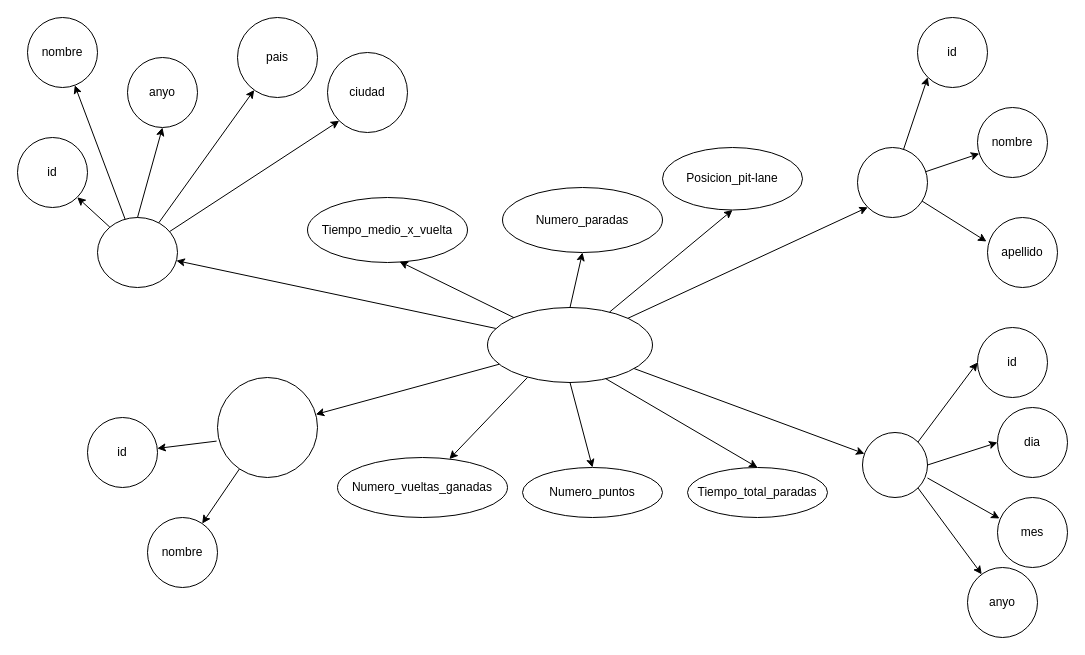
The diagram is 1085 pixels wide and 655 high, and some of its shapes have lost their labels. The box of each missing label's shape, as (x1, y1, x2, y2) in pixels:
CARRERAS: (96, 216, 178, 288)
FECHA: (862, 432, 928, 498)
NACIONALIDAD: (216, 376, 318, 478)
PILOTOS: (856, 146, 928, 218)
RENDIMIENTO DEL PILOTO: (486, 306, 652, 382)
